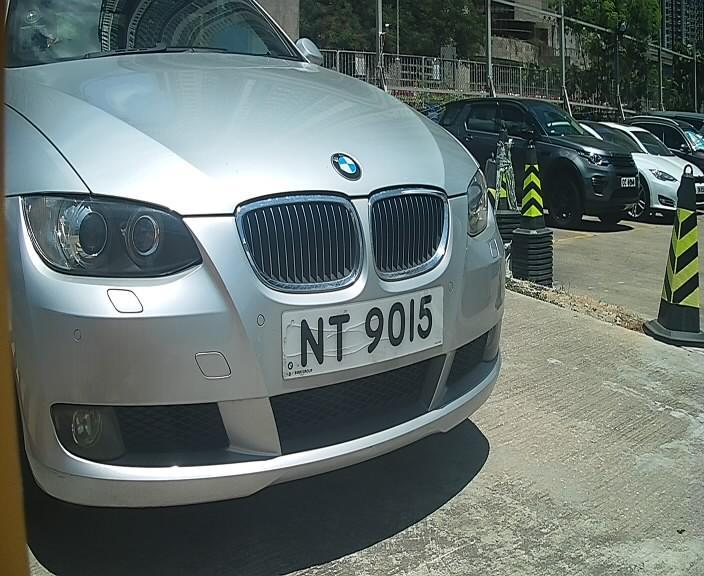privatecar: (4, 29, 547, 512)
